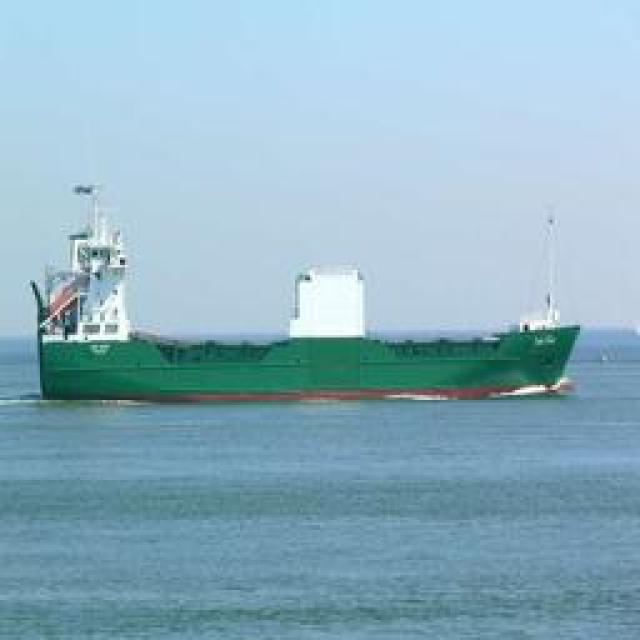Ship: (39, 184, 592, 407)
